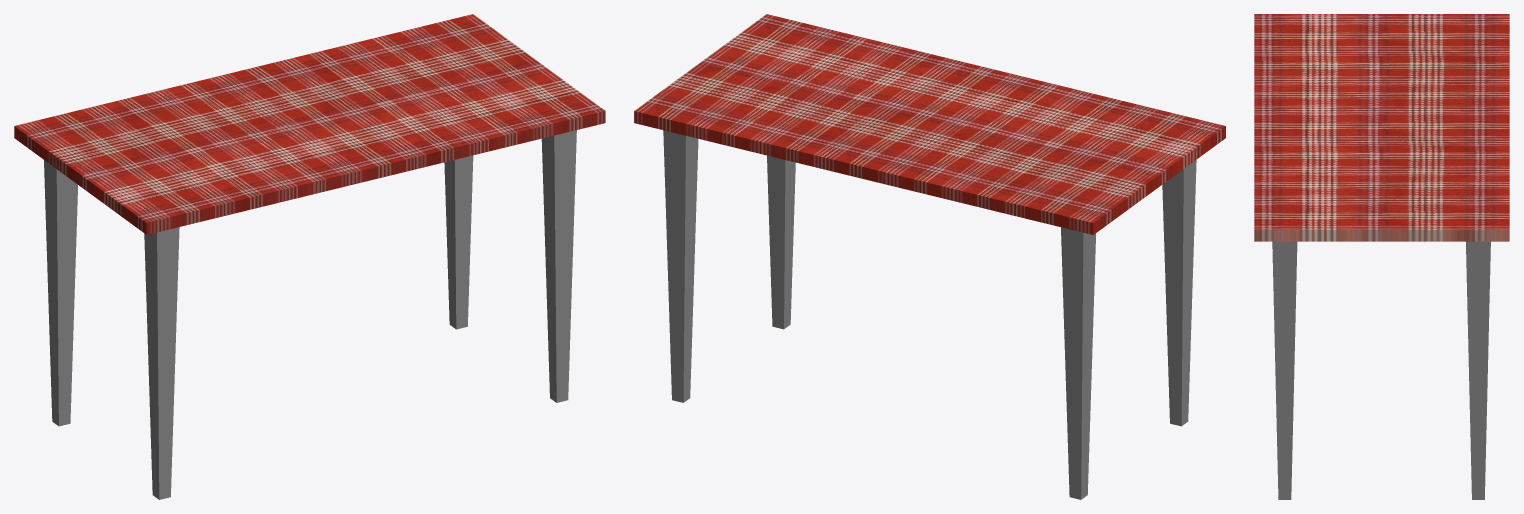
Rendered from table lunch.FBX.
3 renders of one model, left to right at view 1: azimuth 30°, elevation 25°; view 2: azimuth 150°, elevation 25°; view 3: azimuth 270°, elevation 25°, orthographic. The views are drawn at different scales.
Visible parts, largest first — view 1: tableLunch; view 2: tableLunch; view 3: tableLunch.
Part boxes in pixels (<box>): tableLunch: <box>14,14,605,499</box>; tableLunch: <box>634,14,1225,499</box>; tableLunch: <box>1254,14,1509,499</box>.
Size of the model in its own units: 120 by 73 by 60.
2 materials, 1 textured.
